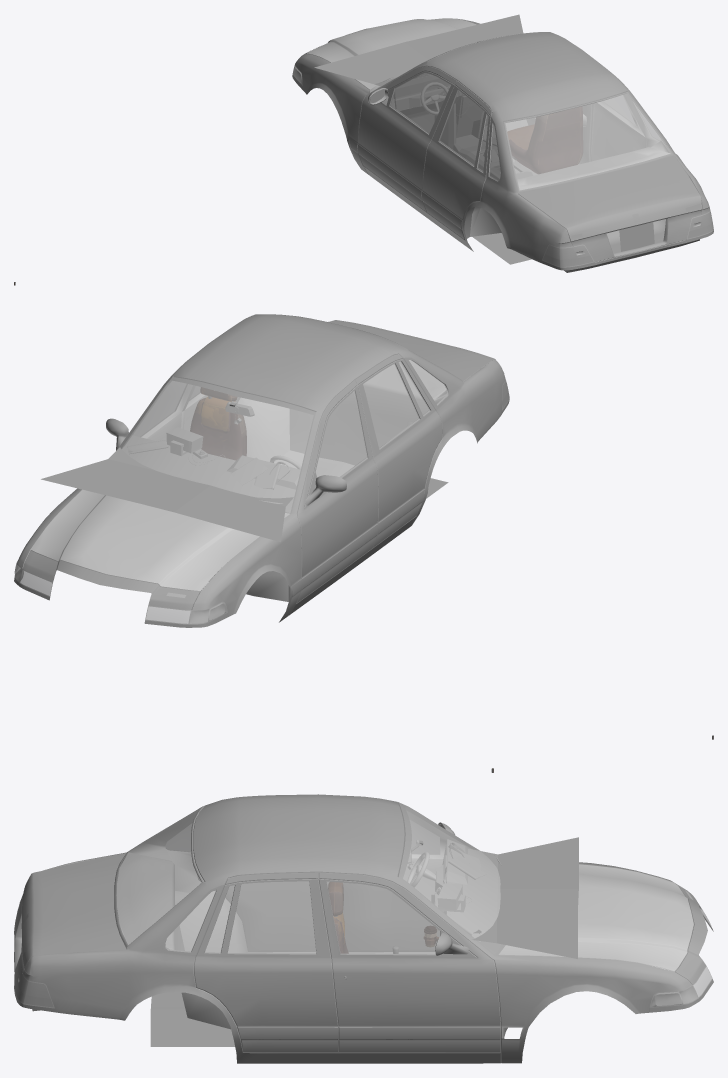
File: cocheDef.fbx
The picture shows the model from 3 angles, top to bottom: view 1: azimuth 30°, elevation 25°; view 2: azimuth 150°, elevation 25°; view 3: azimuth 270°, elevation 25°; orthographic projection. The views are drawn at different scales.
Visible parts, largest first — view 1: Illinois90_Body, Illinois90_Trunkdoor, Illinois90_Rear_Glass, parte_delantera, pCube3, Illinois90_Body_Glass, Illinois90_Hood, polySurface133, Illinois90_glass_Driver, polySurface159, Illinois90_Taillights_glass, polySurface198 (+5 smaller); view 2: Illinois90_Body, Illinois90_Windshield, Illinois90_Hood, parte_delantera, polySurface133, Illinois90_Body_Glass, Illinois90_glass_Driver, Illinois90_Trunkdoor, Illinois90_Headlights_Glass, pCube3, polySurface272, polySurface199 (+4 smaller); view 3: Illinois90_Body, parte_delantera, Illinois90_Hood, Illinois90_Trunkdoor, polySurface133, Illinois90_Body_Glass, Illinois90_Windshield, Illinois90_Rear_Glass, Illinois90_Glass_Passenger, polySurface153, polySurface148, polySurface264 (+14 smaller).
Boxes of the visible parts, x1=… form: Illinois90_Body: x1=292, y1=18, x2=713, y2=270; Illinois90_Trunkdoor: x1=518, y1=155, x2=702, y2=261; Illinois90_Rear_Glass: x1=505, y1=93, x2=670, y2=190; parte_delantera: x1=314, y1=14, x2=537, y2=264; pCube3: x1=507, y1=106, x2=582, y2=173; Illinois90_Body_Glass: x1=439, y1=90, x2=659, y2=181; Illinois90_Hood: x1=306, y1=18, x2=476, y2=92; polySurface133: x1=391, y1=94, x2=669, y2=236; Illinois90_glass_Driver: x1=390, y1=73, x2=450, y2=133; polySurface159: x1=592, y1=95, x2=646, y2=160; Illinois90_Taillights_glass: x1=542, y1=211, x2=713, y2=266; polySurface198: x1=503, y1=91, x2=674, y2=193; Illinois90_Body: x1=14, y1=314, x2=509, y2=627; Illinois90_Windshield: x1=122, y1=380, x2=313, y2=512; Illinois90_Hood: x1=31, y1=490, x2=289, y2=591; parte_delantera: x1=41, y1=435, x2=448, y2=542; polySurface133: x1=125, y1=360, x2=446, y2=601; Illinois90_Body_Glass: x1=190, y1=360, x2=447, y2=448; Illinois90_glass_Driver: x1=315, y1=391, x2=367, y2=477; Illinois90_Trunkdoor: x1=328, y1=320, x2=494, y2=381; Illinois90_Headlights_Glass: x1=14, y1=562, x2=226, y2=623; pCube3: x1=190, y1=398, x2=246, y2=459; polySurface272: x1=358, y1=358, x2=434, y2=456; polySurface199: x1=121, y1=377, x2=315, y2=513; Illinois90_Body: x1=14, y1=794, x2=713, y2=1063; parte_delantera: x1=150, y1=837, x2=578, y2=1046; Illinois90_Hood: x1=498, y1=864, x2=693, y2=971; Illinois90_Trunkdoor: x1=14, y1=853, x2=126, y2=983; polySurface133: x1=117, y1=805, x2=507, y2=1038; Illinois90_Body_Glass: x1=165, y1=824, x2=316, y2=953; Illinois90_Windshield: x1=403, y1=804, x2=501, y2=954; Illinois90_Rear_Glass: x1=116, y1=809, x2=201, y2=944; Illinois90_Glass_Passenger: x1=326, y1=881, x2=439, y2=954; polySurface153: x1=343, y1=858, x2=442, y2=951; polySurface148: x1=197, y1=875, x2=328, y2=951; polySurface264: x1=197, y1=878, x2=330, y2=956.
Bounding box in the file's own units: 3254 × 988 × 2904.
